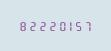eight: (17, 20, 25, 31)
five: (71, 20, 79, 31)
one: (62, 20, 70, 31)
seven: (80, 20, 88, 31)
two: (26, 20, 34, 31), (35, 20, 43, 31), (44, 20, 52, 31)
zero: (53, 20, 61, 31)
